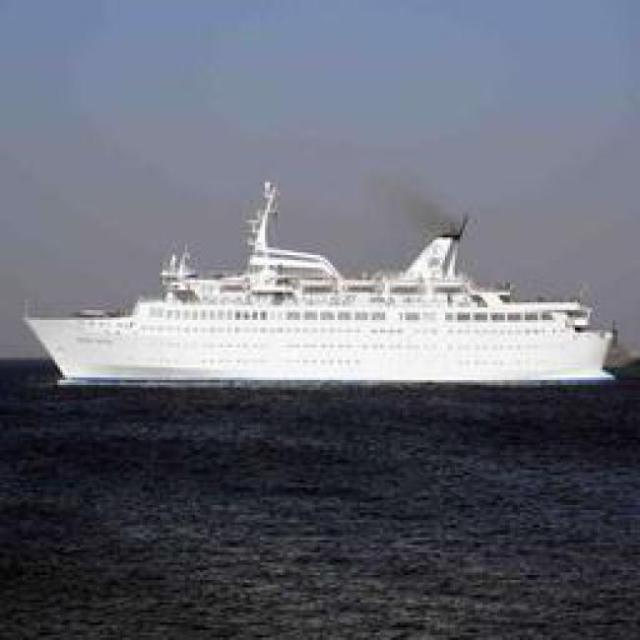boat: (32, 227, 624, 386)
